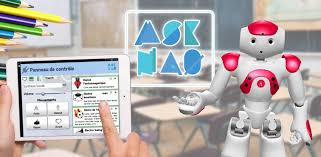nao: (170, 16, 317, 157)
